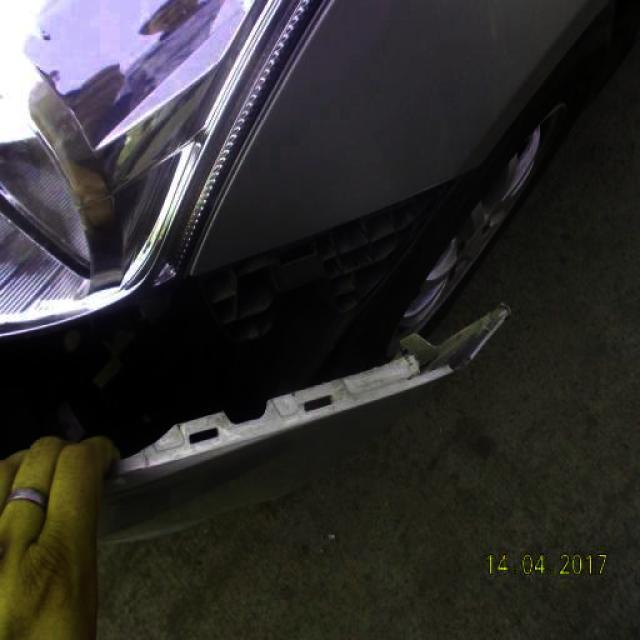car damage: (2, 161, 482, 461)
